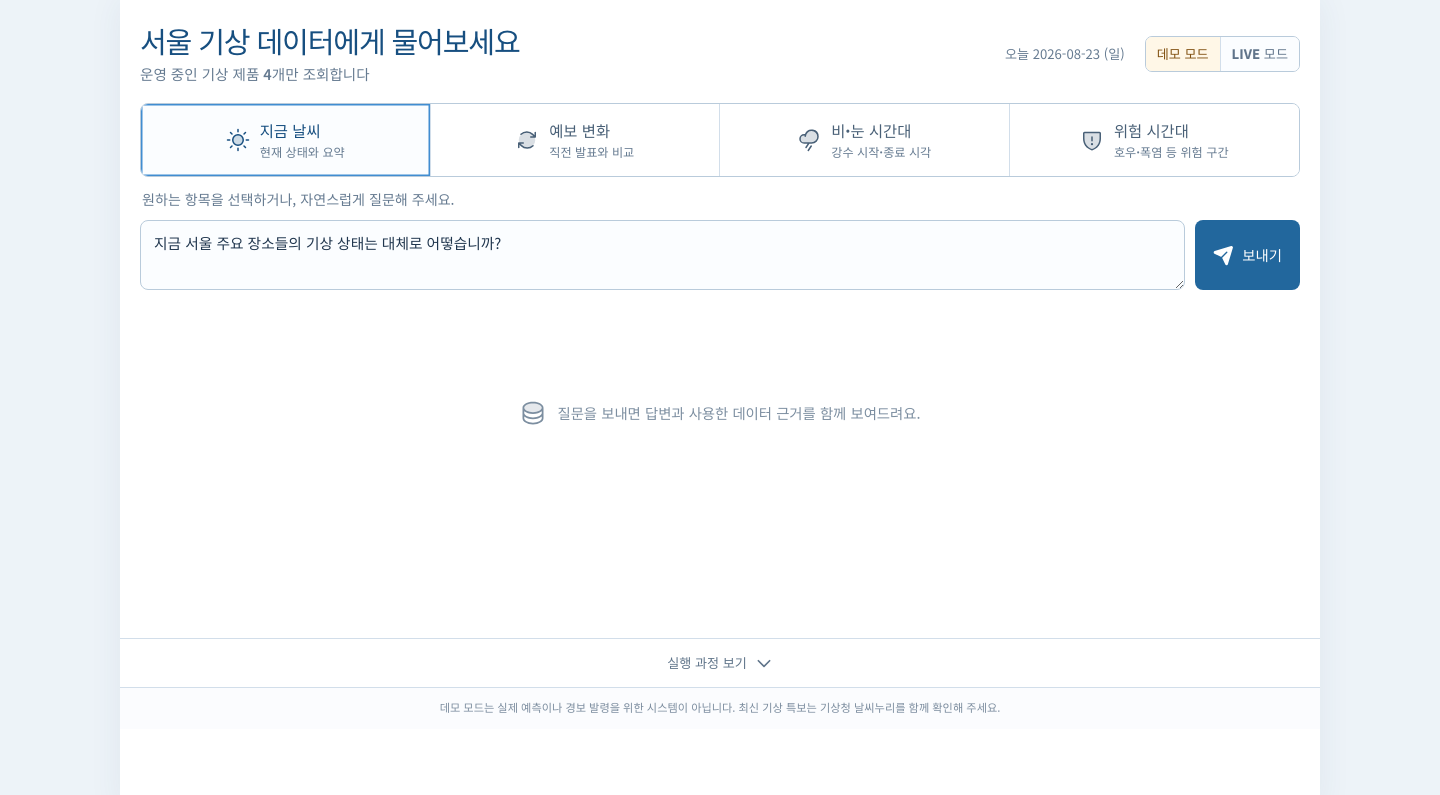
Test case: ASK Seoul 기상 에이전트 UI › 장소별 기상 위험 예상 시간대 근거를 원본 JSON 대신 한국어 표로 먼저 보여준다
Expected: the navigation bar named "기상 질문 유형" is shown, [140,103,1300,177]
Click the tab "위험 시간대 호우·폭염 등 위험 구간".
click(1154, 140)  # box [1010,104,1299,176]
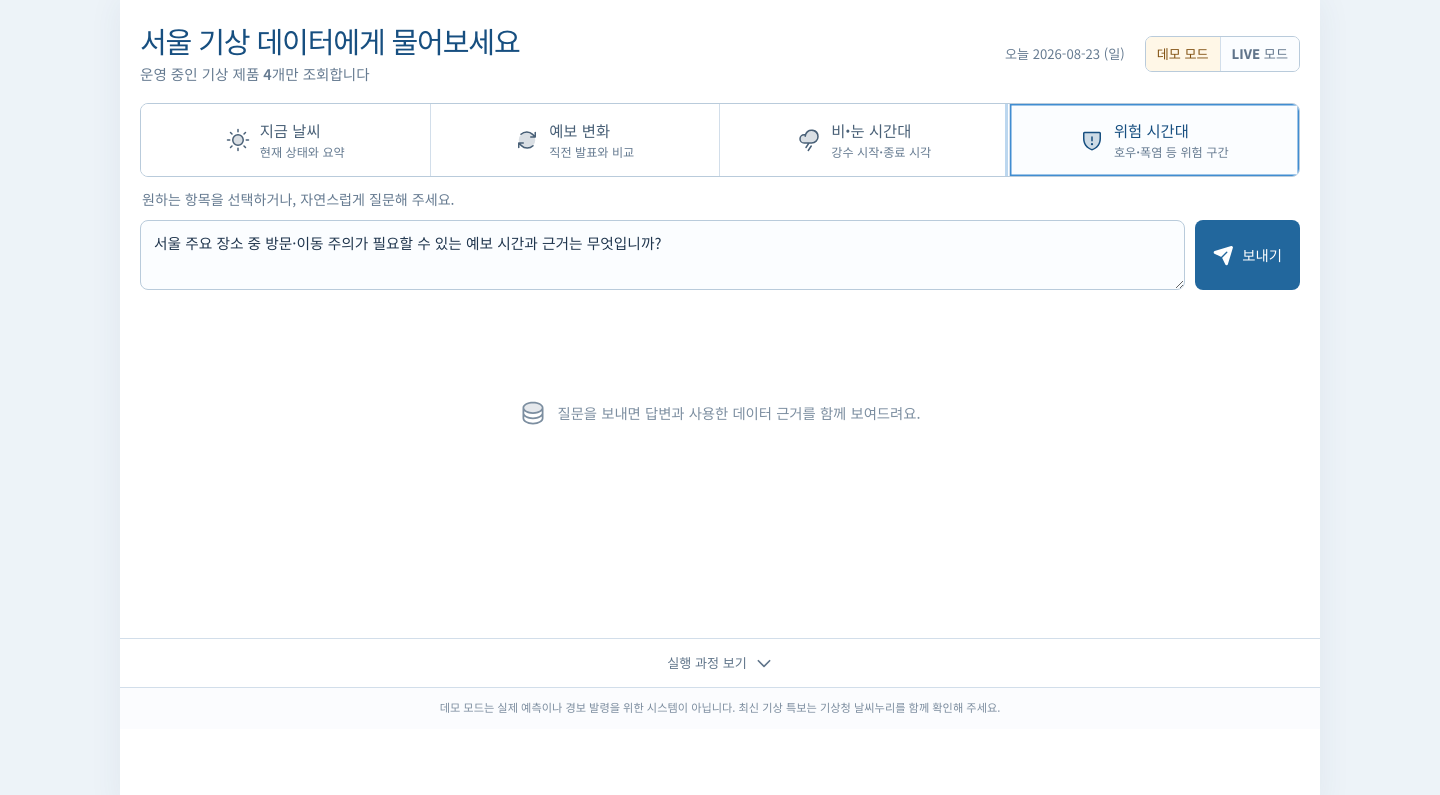
Click the button with aria-label "질문 보내기".
click(1248, 255)  # box [1195,220,1300,290]
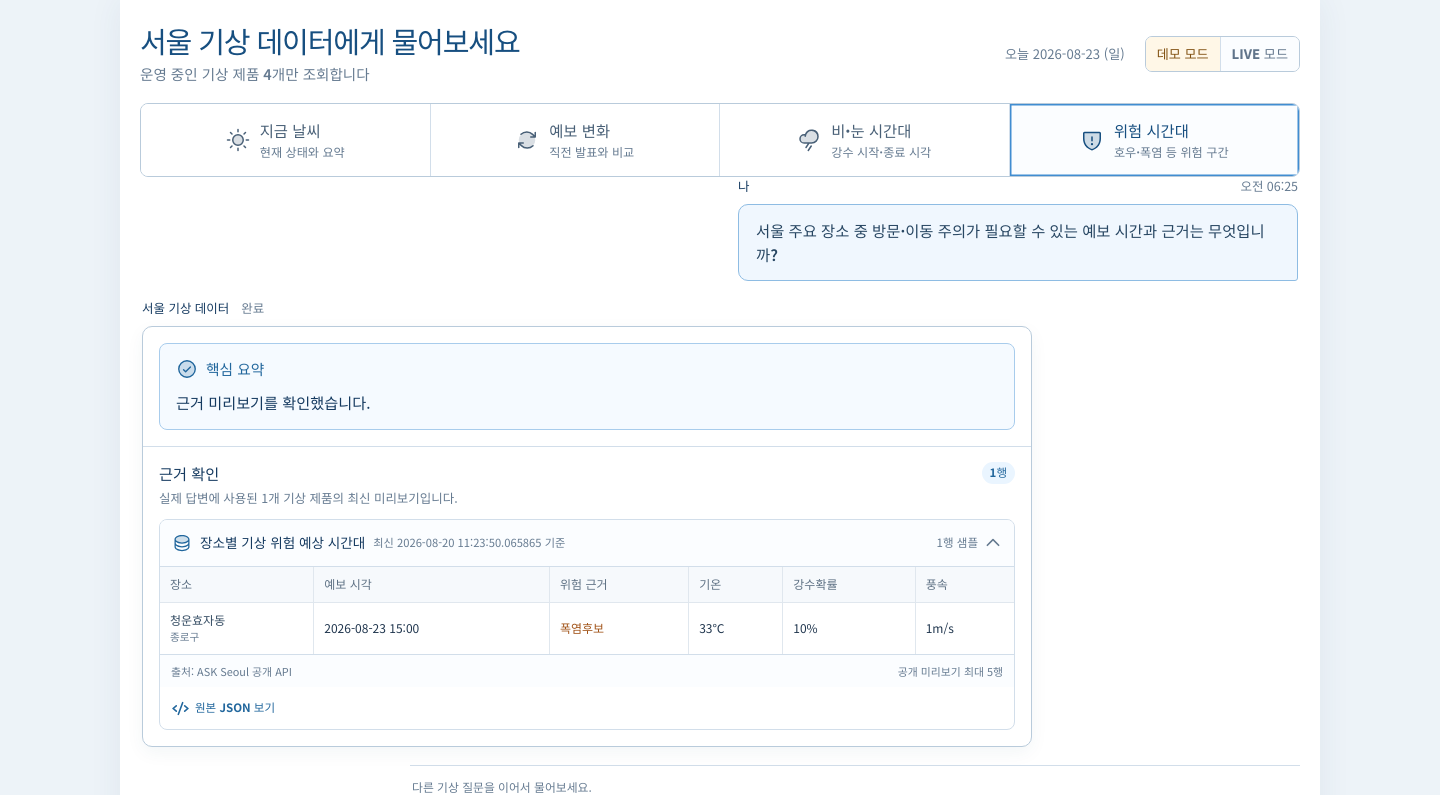
Result: the element named "서울 기상 데이터 답변" is shown at [142,299,1032,747]
Result: the text "장소별 기상 위험 예상 시간대" is shown at [200,532,365,554]
Result: the text "청운효자동" is shown at [170,611,225,628]
Click the button "원본 JSON 보기".
click(224, 708)  # box [170,695,277,721]
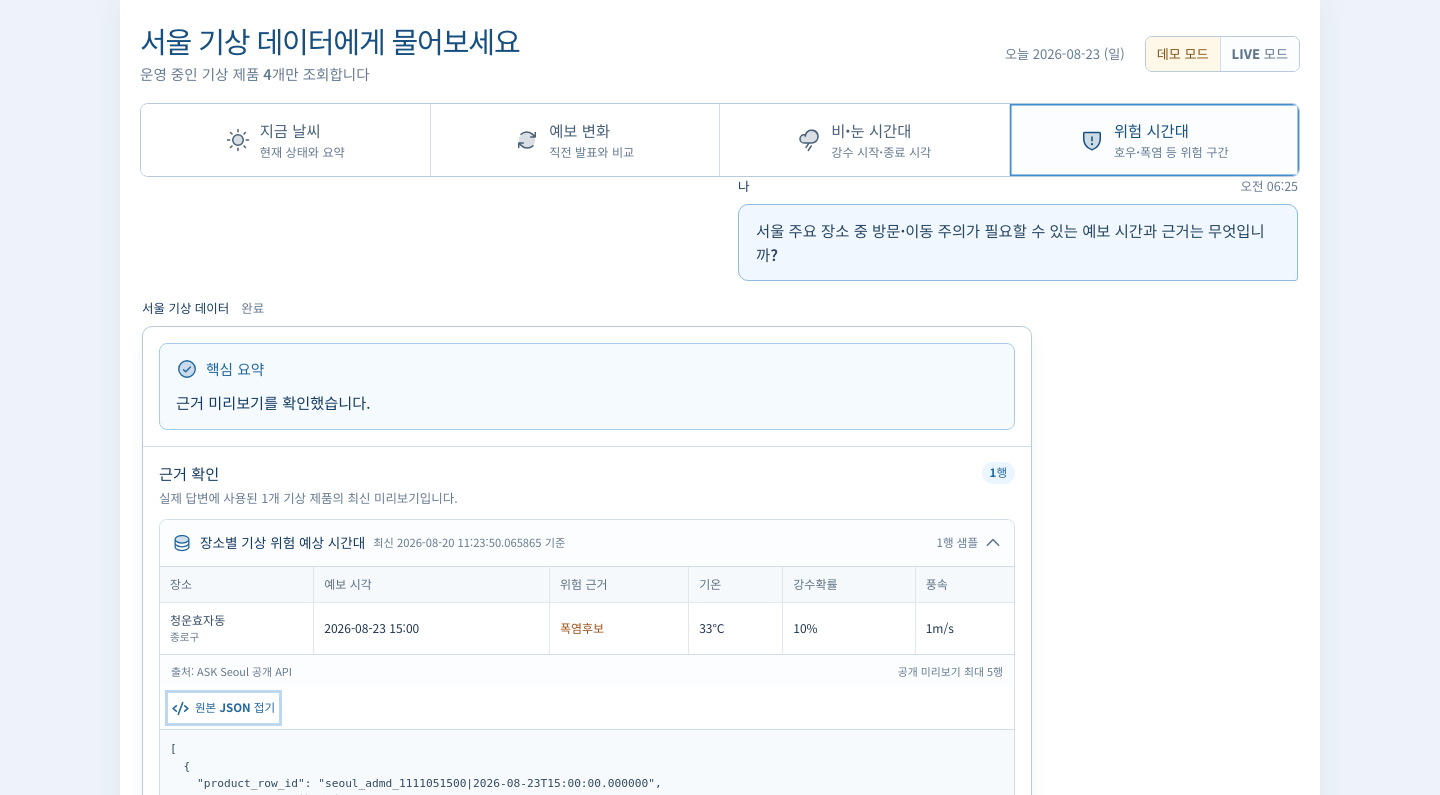
Result: the button "원본 JSON 접기" is shown at [170,695,277,721]
